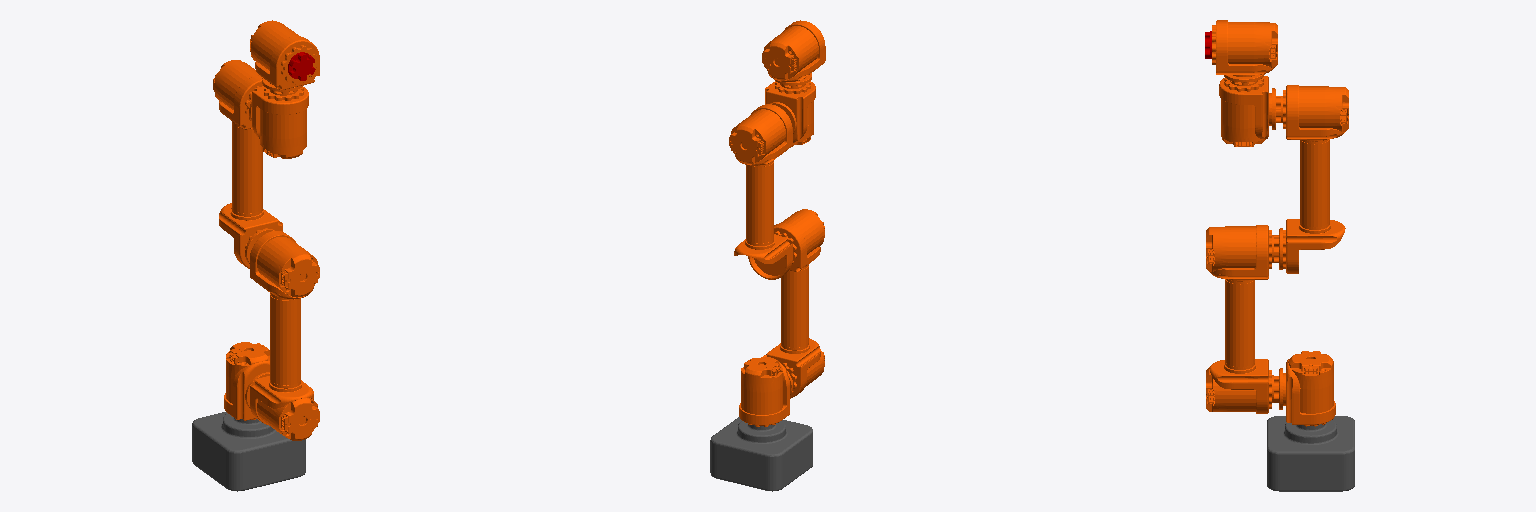
robot.urdf — gluon_6l3_description:
<?xml version="1.0" encoding="utf-8"?>
<!-- This URDF was automatically created by SolidWorks to URDF Exporter! Originally created by [author] ([email redacted]) 
     Commit Version: 1.5.1-0-g916b5db  Build Version: 1.5.7152.31018
     For more information, please see http://wiki.ros.org/sw_urdf_exporter -->
<robot
  name="gluon_6l3_description">

  <link name="world" />
  <joint name="world_joint" type="fixed">
    <parent link="world" />
    <child link = "base_link" />
    <origin xyz="0.0 0.0 0.0" rpy="3.1415926536 3.1415926536 0.0" />
  </joint>
  <!-- ROS base_link to ROCR6 'Base' Coordinates transform -->
    <link name="base"/>
    <joint name="base_link-base_fixed_joint" type="fixed">
      <!-- NOTE: this rotation is only needed as long as base_link itself is
                 not corrected wrt the real robot (ie: rotated over 180
                 degrees)
      -->
      <origin xyz="0 0 0" rpy="0 0 -3.1415926536"/>
      <parent link="base_link"/>
      <child link="base"/>
    </joint>
  <link
    name="base_link">
    <inertial>
      <origin
        xyz="6.00214302719138E-11 -2.03592043663259E-18 0.0271404483614374"
        rpy="0 0 0" />
      <mass
        value="0.524001417146026" />
      <inertia
        ixx="0.000535467122847014"
        ixy="5.80561098039657E-10"
        ixz="1.91837356095828E-11"
        iyy="0.000535467082580035"
        iyz="5.33104892292796E-20"
        izz="0.000799852045598815" />
    </inertial>
    <visual>
      <origin
        xyz="0 0 0"
        rpy="0 0 0" />
      <geometry>
        <mesh
          filename="package://gluon_6l3_description/meshes/base_link.STL" />
      </geometry>
      <material
        name="Grey">
        <color
          rgba="0.4 0.4 0.4 1.0"/>
		<texture
          filename="package://gluon_6l3_description/textures/0.png" />
      </material>
    </visual>
    <collision>
      <origin
        xyz="0 0 0"
        rpy="0 0 0" />
      <geometry>
        <mesh
          filename="package://gluon_6l3_description/meshes/base_link.STL" />
      </geometry>
    </collision>
  </link>
  <link
    name="shoulder_link">
    <inertial>
      <origin
        xyz="6.4504988678293E-06 0.0138491130559665 -0.0114038936020913"
        rpy="0 0 0" />
      <mass
        value="0.0820185009306671" />
      <inertia
        ixx="3.02771647844208E-05"
        ixy="4.98647342619796E-10"
        ixz="1.02799620338453E-09"
        iyy="3.14768364536352E-05"
        iyz="-7.94964924528223E-06"
        izz="2.79887356737968E-05" />
    </inertial>
    <visual>
      <origin
        xyz="0 0 0"
        rpy="0 0 0" />
      <geometry>
        <mesh
          filename="package://gluon_6l3_description/meshes/shoulder_link.STL" />
      </geometry>
      <material
        name="Orange">
        <color
          rgba="1.0 0.423529411765 0.0392156862745 1.0" />
		<texture
          filename="package://gluon_6l3_description/textures/1.png" />
      </material>
    </visual>
    <collision>
      <origin
        xyz="0 0 0"
        rpy="0 0 0" />
      <geometry>
        <mesh
          filename="package://gluon_6l3_description/meshes/shoulder_link.STL" />
      </geometry>
    </collision>
  </link>
  <joint
    name="shoulder_pan_joint"
    type="revolute">
    <origin
      xyz="0 0 0.10503"
      rpy="0 0 0" />
    <parent
      link="base_link" />
    <child
      link="shoulder_link" />
    <axis
      xyz="0 0 1" />
    <limit
      lower="-3.14"
      upper="3.14"
      effort="150"
      velocity="3.15" />
  </joint>
  <link
    name="upper_arm_link">
    <inertial>
      <origin
        xyz="5.76283818191725E-17 -0.00796192925635632 0.0872101279339996"
        rpy="0 0 0" />
      <mass
        value="0.23495065778678" />
      <inertia
        ixx="0.000149085261775553"
        ixy="-1.19688965699115E-19"
        ixz="-9.97294685179312E-10"
        iyy="0.000144508403554305"
        iyz="-1.30432354342531E-19"
        izz="7.22034259223348E-05" />
    </inertial>
    <visual>
      <origin
        xyz="0 0 0"
        rpy="0 0 0" />
      <geometry>
        <mesh
          filename="package://gluon_6l3_description/meshes/upper_arm_link.STL" />
      </geometry>
      <material
        name="Orange">
        <color
          rgba="1.0 0.423529411765 0.0392156862745 1.0" />
		<texture
          filename="package://gluon_6l3_description/textures/2.png" />
      </material>
    </visual>
    <collision>
      <origin
        xyz="0 0 0"
        rpy="0 0 0" />
      <geometry>
        <mesh
          filename="package://gluon_6l3_description/meshes/upper_arm_link.STL" />
      </geometry>
    </collision>
  </link>
  <joint
    name="shoulder_lift_joint"
    type="revolute">
    <origin
      xyz="0 0.080088 0"
      rpy="0 0 0" />
    <parent
      link="shoulder_link" />
    <child
      link="upper_arm_link" />
    <axis
      xyz="0 1 0" />
    <limit
      lower="-3.14"
      upper="3.14"
      effort="150"
      velocity="3.15" />
  </joint>
  <link
    name="forearm_link">
    <inertial>
      <origin
        xyz="-2.28721263676364E-06 0.0110440131133395 0.0921174993010334"
        rpy="0 0 0" />
      <mass
        value="0.238894459849097" />
      <inertia
        ixx="0.000149170706200484"
        ixy="3.25881137569095E-10"
        ixz="1.00738300511502E-09"
        iyy="0.000144556914762174"
        iyz="3.04659433394445E-10"
        izz="7.22747674688485E-05" />
    </inertial>
    <visual>
      <origin
        xyz="0 0 0"
        rpy="0 0 0" />
      <geometry>
        <mesh
          filename="package://gluon_6l3_description/meshes/forearm_link.STL" />
      </geometry>
      <material
        name="Orange">
        <color
          rgba="1.0 0.423529411765 0.0392156862745 1.0" />
		<texture
          filename="package://gluon_6l3_description/textures/3.png" />
      </material>
    </visual>
    <collision>
      <origin
        xyz="0 0 0"
        rpy="0 0 0" />
      <geometry>
        <mesh
          filename="package://gluon_6l3_description/meshes/forearm_link.STL" />
      </geometry>
    </collision>
  </link>
  <joint
    name="elbow_joint"
    type="revolute">
    <origin
      xyz="0 -0.084515 0.17442"
      rpy="0 0 0" />
    <parent
      link="upper_arm_link" />
    <child
      link="forearm_link" />
    <axis
      xyz="0 1 0" />
    <limit
      lower="-3.14"
      upper="3.14"
      effort="150"
      velocity="3.15" />
  </joint>
  <link
    name="wrist_1_link">
    <inertial>
      <origin
        xyz="6.4504988676471E-06 0.0707765705043197 0.0153497230747068"
        rpy="0 0 0" />
      <mass
        value="0.082018500930667" />
      <inertia
        ixx="3.02771647844206E-05"
        ixy="-4.98647342150018E-10"
        ixz="-1.02799620384103E-09"
        iyy="3.11501379832757E-05"
        iyz="-7.94964924528221E-06"
        izz="2.83154341441561E-05" />
    </inertial>
    <visual>
      <origin
        xyz="0 0 0"
        rpy="0 0 0" />
      <geometry>
        <mesh
          filename="package://gluon_6l3_description/meshes/wrist_1_link.STL" />
      </geometry>
      <material
        name="Orange">
        <color
          rgba="1.0 0.423529411765 0.0392156862745 1.0" />
		<texture
          filename="package://gluon_6l3_description/textures/4.png" />
      </material>
    </visual>
    <collision>
      <origin
        xyz="0 0 0"
        rpy="0 0 0" />
      <geometry>
        <mesh
          filename="package://gluon_6l3_description/meshes/wrist_1_link.STL" />
      </geometry>
    </collision>
  </link>
  <joint
    name="wrist_1_joint"
    type="revolute">
    <origin
      xyz="0 0 0.17442"
      rpy="0 0 0" />
    <parent
      link="forearm_link" />
    <child
      link="wrist_1_link" />
    <axis
      xyz="0 1 0" />
    <limit
      lower="-3.14"
      upper="3.14"
      effort="28"
      velocity="3.2" />
  </joint>
  <link
    name="wrist_2_link">
    <inertial>
      <origin
        xyz="-7.2147559877832E-06 0.0127550304764162 0.0696733807918641"
        rpy="0 0 0" />
      <mass
        value="0.0733303036590749" />
      <inertia
        ixx="2.96845482915175E-05"
        ixy="1.02799620365497E-09"
        ixz="4.98647342585307E-10"
        iyy="2.73961191808933E-05"
        iyz="-7.94964924528226E-06"
        izz="3.05575214903725E-05" />
    </inertial>
    <visual>
      <origin
        xyz="0 0 0"
        rpy="0 0 0" />
      <geometry>
        <mesh
          filename="package://gluon_6l3_description/meshes/wrist_2_link.STL" />
      </geometry>
      <material
        name="Orange">
        <color
          rgba="1.0 0.423529411765 0.0392156862745 1.0" />
		<texture
          filename="package://gluon_6l3_description/textures/5.png" />
      </material>
    </visual>
    <collision>
      <origin
        xyz="0 0 0"
        rpy="0 0 0" />
      <geometry>
        <mesh
          filename="package://gluon_6l3_description/meshes/wrist_2_link.STL" />
      </geometry>
    </collision>
  </link>
  <joint
    name="wrist_2_joint"
    type="revolute">
    <origin
      xyz="0 0.080088 0"
      rpy="0 0 0" />
    <parent
      link="wrist_1_link" />
    <child
      link="wrist_2_link" />
    <axis
      xyz="0 0 1" />
    <limit
      lower="-3.14"
      upper="3.14"
      effort="28"
      velocity="3.2" />
  </joint>
  <link
    name="wrist_3_link">
    <inertial>
      <origin
        xyz="5.16911893705007E-18 0.0372485016118171 -1.11022302462516E-16"
        rpy="0 0 0" />
      <mass
        value="0.0086881972715925" />
      <inertia
        ixx="5.92616492903874E-07"
        ixy="-1.90251559713552E-22"
        ixz="-2.11657278394925E-19"
        iyy="9.19314963262971E-07"
        iyz="-1.43193395727718E-23"
        izz="5.92616492903025E-07" />
    </inertial>
    <visual>
      <origin
        xyz="0 0 0"
        rpy="0 0 0" />
      <geometry>
        <mesh
          filename="package://gluon_6l3_description/meshes/wrist_3_link.STL" />
      </geometry>
      <material
        name="Red">
        <color
          rgba="0.8 0.0 0.0 1.0"/>
		<texture
          filename="package://gluon_6l3_description/textures/6.png" />
      </material>
    </visual>
    <collision>
      <origin
        xyz="0 0 0"
        rpy="0 0 0" />
      <geometry>
        <mesh
          filename="package://gluon_6l3_description/meshes/wrist_3_link.STL" />
      </geometry>
    </collision>
  </link>
  <joint
    name="wrist_3_joint"
    type="revolute">
    <origin
      xyz="0 0 0.080088"
      rpy="0 0 0" />
    <parent
      link="wrist_2_link" />
    <child
      link="wrist_3_link" />
    <axis
      xyz="0 1 0" />
    <limit
      lower="-3.14"
      upper="3.14"
      effort="28"
      velocity="3.2" />
  </joint>
  <!--new add content -->
  <joint name="ee_fixed_joint" type="fixed">
    <parent link="wrist_3_link"/>
    <child link="ee_link"/>
    <origin rpy="0.0 0.0 1.57079632679" xyz="0.0 0.04436 0.0"/>
  </joint>
  <link name="ee_link">
    <collision>
      <geometry>
        <box size="0.01 0.01 0.01"/>
      </geometry>
      <origin rpy="0 0 0" xyz="-0.01 0 0"/>
    </collision>
  </link>
	
      <!-- Frame coincident with all-zeros TCP on ROCR6 controller -->
  <link name="tool0"/>
  <joint name="wrist_3_link-tool0_fixed_joint" type="fixed">
    <origin rpy="-1.57079632679 0 0" xyz="0 0.04436 0"/>
    <parent link="wrist_3_link"/>
    <child link="tool0"/>
  </joint>
</robot>

--- Facts derived from the render (not from the file) ---
3 views of the same robot in one strip: view 1: azimuth 30°, elevation 25°; view 2: azimuth 150°, elevation 25°; view 3: azimuth 270°, elevation 25° (orthographic).
Robot: gluon_6l3_description — 11 links, 10 joints (6 revolute, 4 fixed); root link world; default pose: all joints at 0.
Links seen in each view (by area): view 1: upper_arm_link, forearm_link, base_link, wrist_1_link, wrist_2_link, shoulder_link, wrist_3_link; view 2: forearm_link, base_link, upper_arm_link, shoulder_link, wrist_2_link, wrist_1_link; view 3: upper_arm_link, forearm_link, base_link, shoulder_link, wrist_2_link, wrist_1_link.
Link boxes in pixels (x1,y1,x2,y2): upper_arm_link: (250, 231, 319, 440); forearm_link: (213, 60, 282, 268); base_link: (192, 412, 305, 491); wrist_1_link: (249, 86, 308, 158); wrist_2_link: (250, 20, 319, 91); shoulder_link: (224, 342, 269, 420); wrist_3_link: (288, 52, 315, 80); forearm_link: (729, 104, 792, 279); base_link: (710, 417, 812, 491); upper_arm_link: (763, 209, 824, 398); shoulder_link: (739, 357, 792, 426); wrist_2_link: (762, 20, 825, 85); wrist_1_link: (765, 81, 815, 146); upper_arm_link: (1206, 225, 1271, 413); forearm_link: (1272, 85, 1348, 273); base_link: (1267, 416, 1354, 491); shoulder_link: (1272, 351, 1335, 426); wrist_2_link: (1212, 20, 1277, 82); wrist_1_link: (1219, 76, 1275, 146).
Size in the robot's own frame: 0.1 by 0.17 by 0.5618 metres.
7 mesh visuals loaded from 7 distinct referenced files (7 binary STL).
